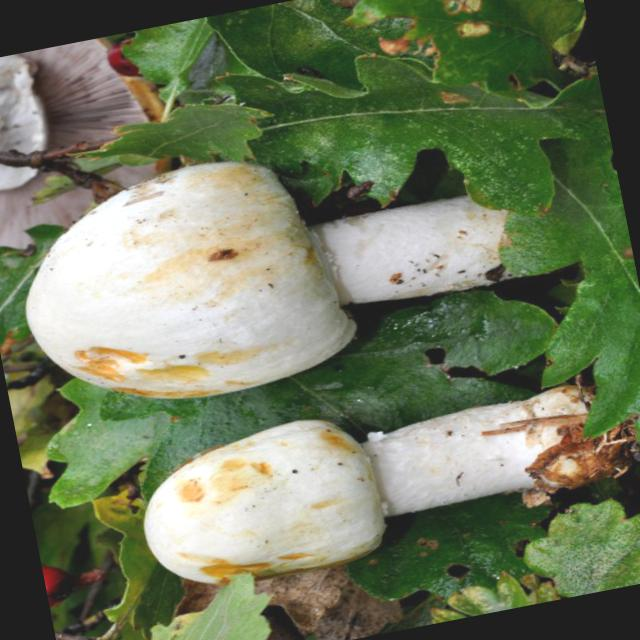Agaricus bisporus: (127, 361, 626, 598)
